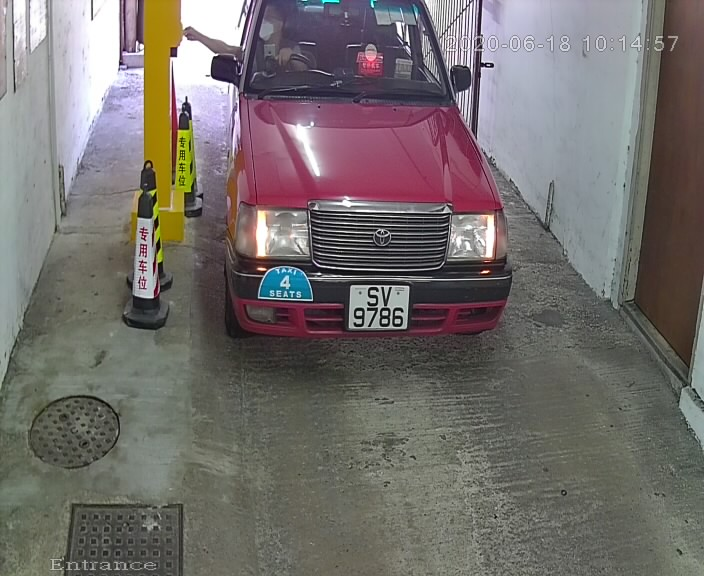taxi: (195, 2, 523, 371)
taxi_mark: (259, 261, 321, 309)
